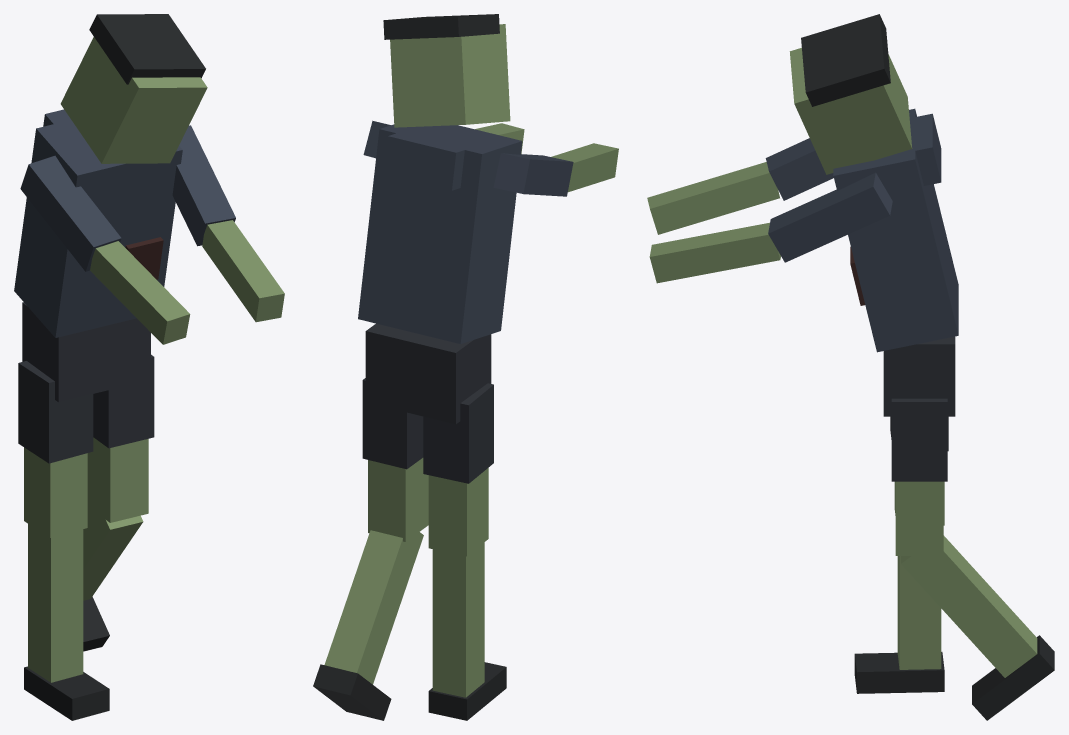
The model's file is zombie_runner_b.glb.
3 renders of one model, left to right at view 1: azimuth 30°, elevation 25°; view 2: azimuth 150°, elevation 25°; view 3: azimuth 270°, elevation 25°, orthographic. The views are drawn at different scales.
Parts seen in each view (by area): view 1: zombie_runner_b; view 2: zombie_runner_b; view 3: zombie_runner_b.
Boxes of the visible parts, x1,y1,x2,y2 form: zombie_runner_b: (14,14,284,720); zombie_runner_b: (313,14,618,720); zombie_runner_b: (647,14,1054,720).
Size of the model in its own units: 0.4433 by 1.79 by 0.9709.
